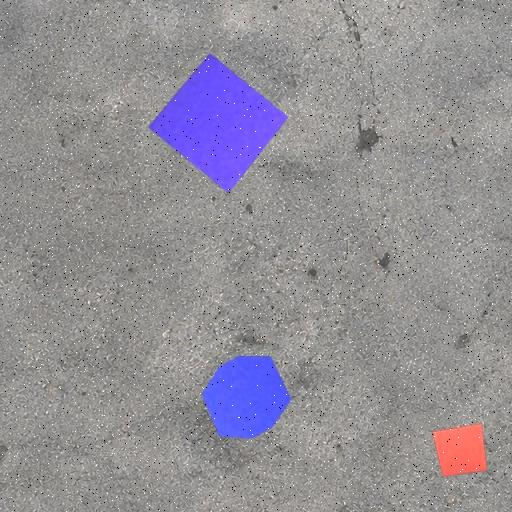BLUE_SQUARE: (147, 52, 289, 194)
RED_SQUARE: (432, 423, 488, 478)
